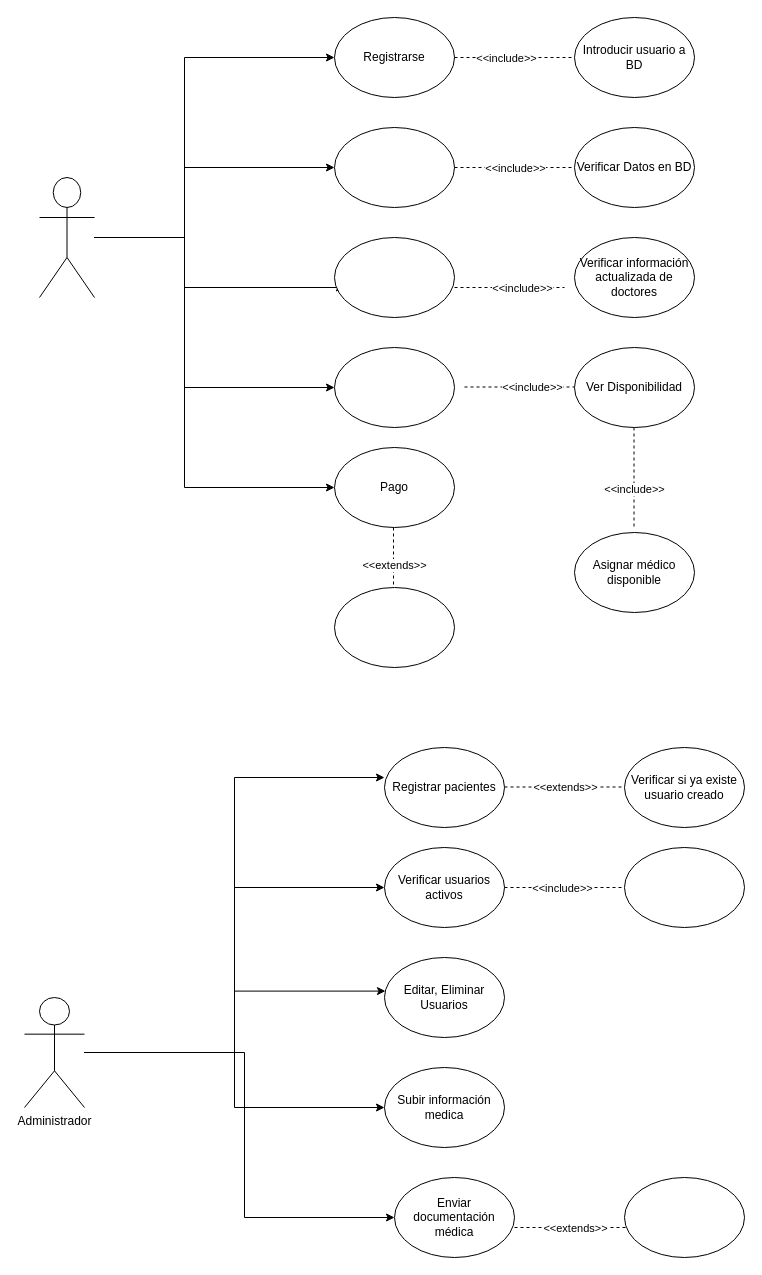
The diagram is 762 pixels wide and 1275 high, and some of its shapes have lost their labels. The box of each missing label's shape, as (x1, y1, x2, y2) in pixels:
Cliente: (38, 176, 94, 298)
Iniciar Sesión: (334, 126, 454, 208)
Revisar BD: (624, 846, 744, 928)
Seleccionar servicio: (334, 346, 454, 428)
Ver método de pago: (334, 586, 454, 668)
Verificar tipo de documentación: (624, 1176, 744, 1258)
Visualizar Historial personal: (334, 236, 454, 318)
